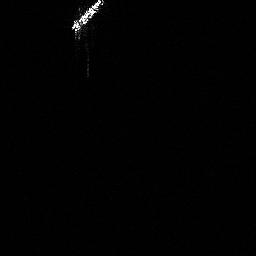ship: (68, 1, 105, 39)
